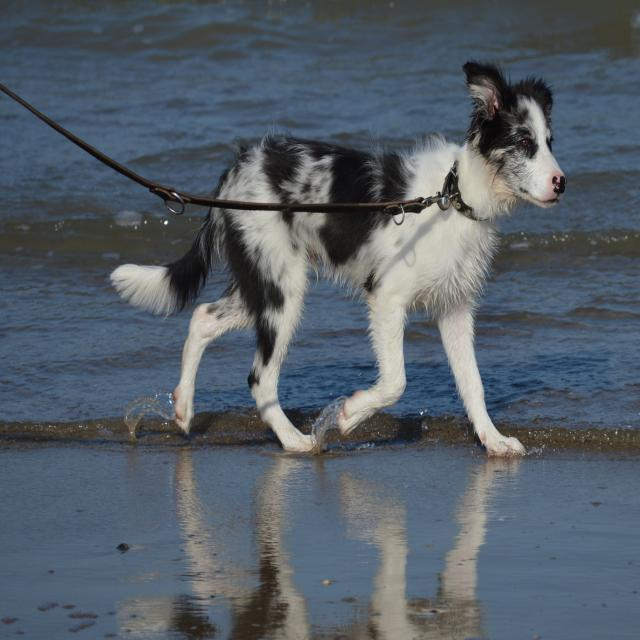ALASKAN_MALAMUTE: (107, 37, 580, 484)
